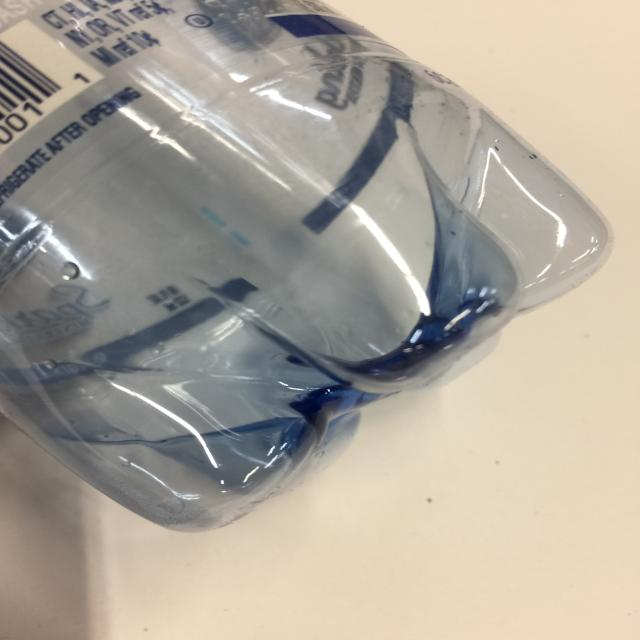plastic: (0, 0, 615, 533)
